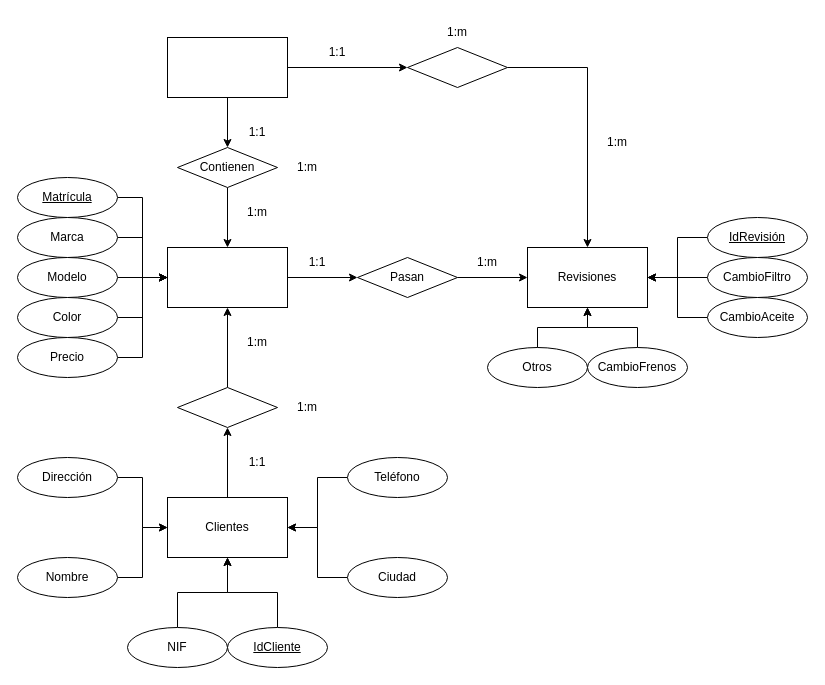
Image size: 825x685. Some labels were removed from this diagram. Each missing label, with the centre of its shape:
"Coches" goes at point (227, 277).
"Compran" goes at point (227, 407).
"Concesionarios" goes at point (227, 67).
"Realizan" goes at point (457, 67).
